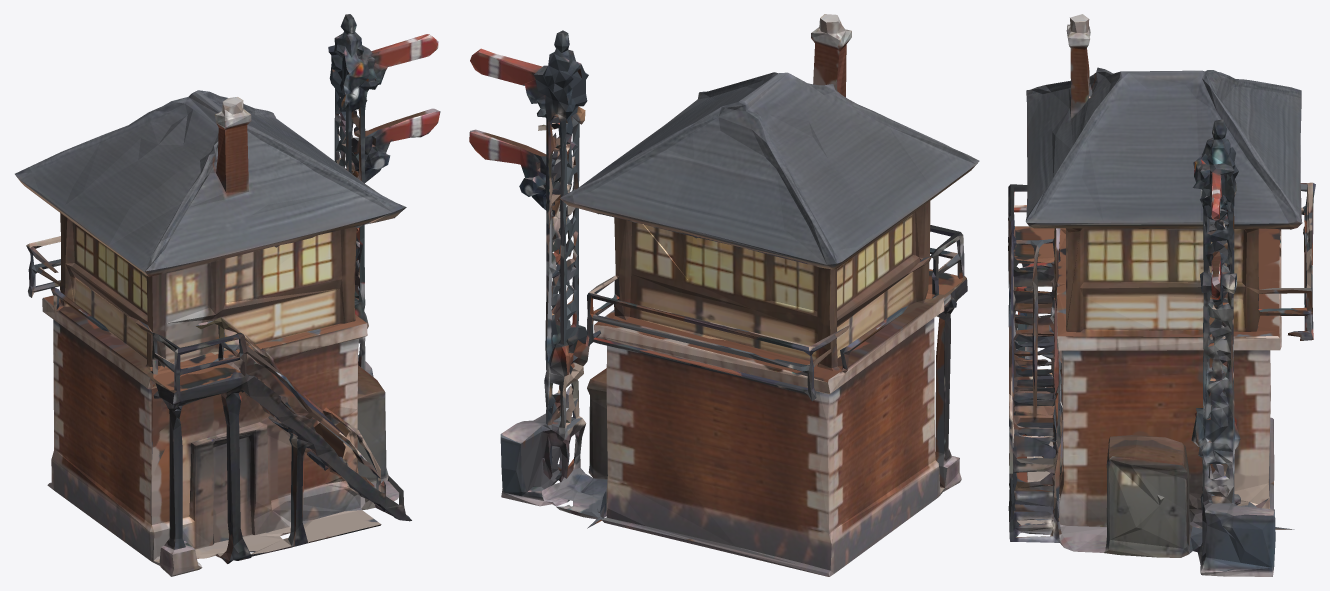
The model's file is war_signal_tower_1117.glb.
The picture shows the model from 3 angles, left to right: view 1: azimuth 30°, elevation 25°; view 2: azimuth 150°, elevation 25°; view 3: azimuth 270°, elevation 25°; orthographic projection. The views are drawn at different scales.
Parts seen in each view (by area): view 1: tmp4vm3c8ct.ply; view 2: tmp4vm3c8ct.ply; view 3: tmp4vm3c8ct.ply.
Boxes of the visible parts, left/top/right/bottom form: tmp4vm3c8ct.ply: left=15, top=14, right=440, bottom=576; tmp4vm3c8ct.ply: left=469, top=14, right=979, bottom=576; tmp4vm3c8ct.ply: left=1008, top=14, right=1315, bottom=576.
Bounding box in the file's own units: 1.86 × 1.99 × 1.23.
Materials: 1 (1 with a texture image).
